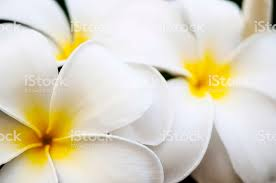frangipani: (1, 26, 164, 183)
